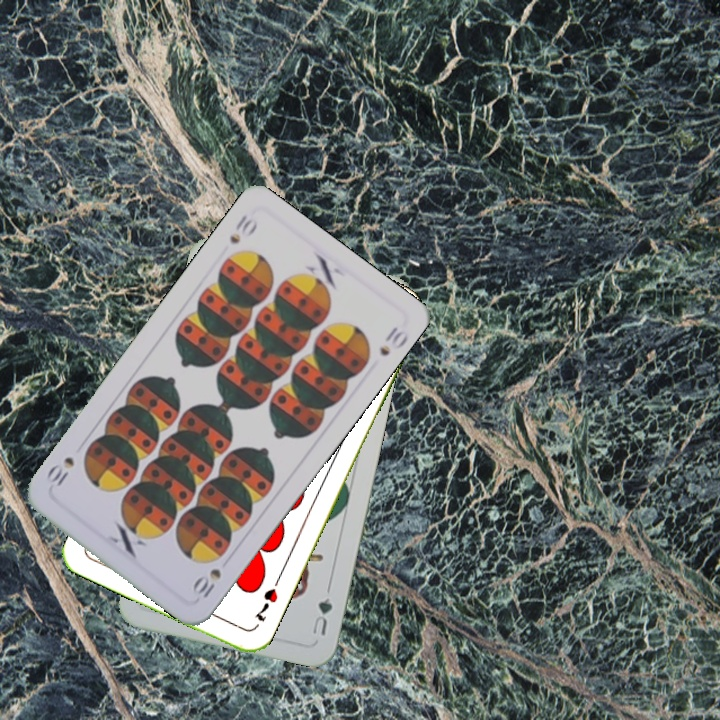GU: (308, 593, 335, 638)
H7: (250, 584, 281, 624)
S10: (188, 564, 224, 602), (225, 210, 260, 247)
